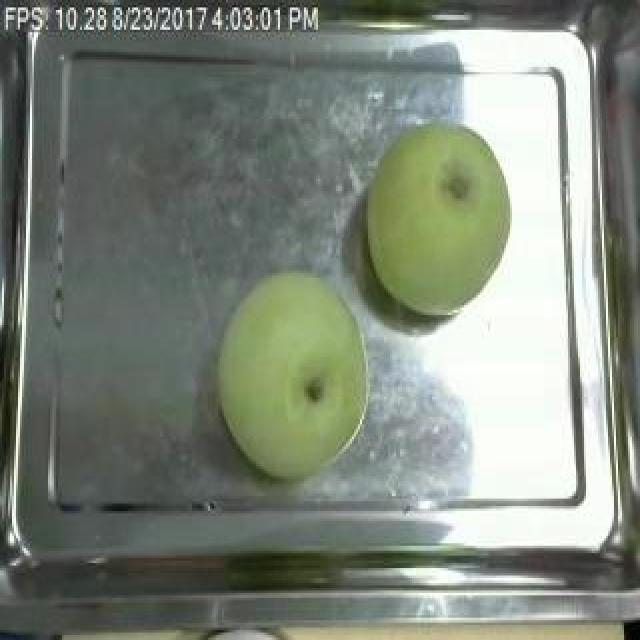Rotten Apple: (207, 263, 371, 486), (363, 101, 521, 326)
